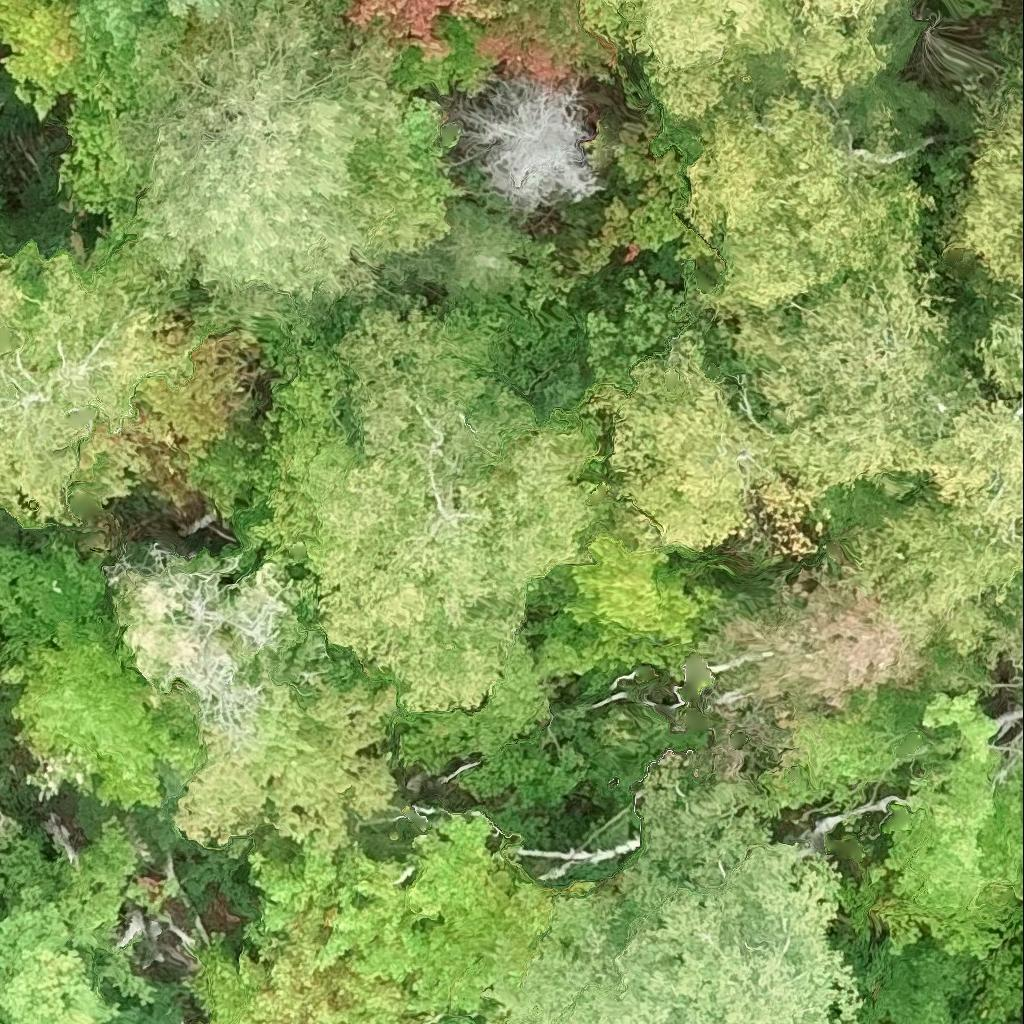crown: (486, 750, 864, 1023), (186, 810, 605, 1023), (682, 248, 990, 533), (129, 0, 412, 309), (653, 75, 935, 329), (327, 235, 579, 476), (0, 240, 204, 529), (582, 328, 816, 561), (875, 651, 1023, 1009), (304, 444, 530, 673), (0, 605, 202, 809), (70, 329, 265, 532), (456, 402, 663, 593), (172, 681, 400, 851), (183, 335, 355, 558), (718, 554, 933, 732), (844, 468, 1023, 666), (522, 533, 744, 692), (389, 637, 589, 804), (0, 888, 184, 1023), (391, 0, 619, 105), (630, 0, 808, 123), (932, 62, 1023, 299), (455, 77, 604, 219), (578, 139, 725, 276), (346, 93, 466, 256), (371, 595, 525, 715), (50, 815, 179, 955), (921, 399, 1023, 539), (71, 0, 185, 118), (0, 543, 106, 669), (585, 270, 685, 389), (55, 88, 135, 233), (789, 0, 892, 108), (0, 0, 85, 124), (344, 0, 501, 63), (965, 288, 1023, 407), (0, 827, 56, 911), (580, 0, 646, 48), (165, 0, 257, 20), (0, 224, 20, 254), (0, 812, 10, 837), (1021, 13, 1023, 20)
